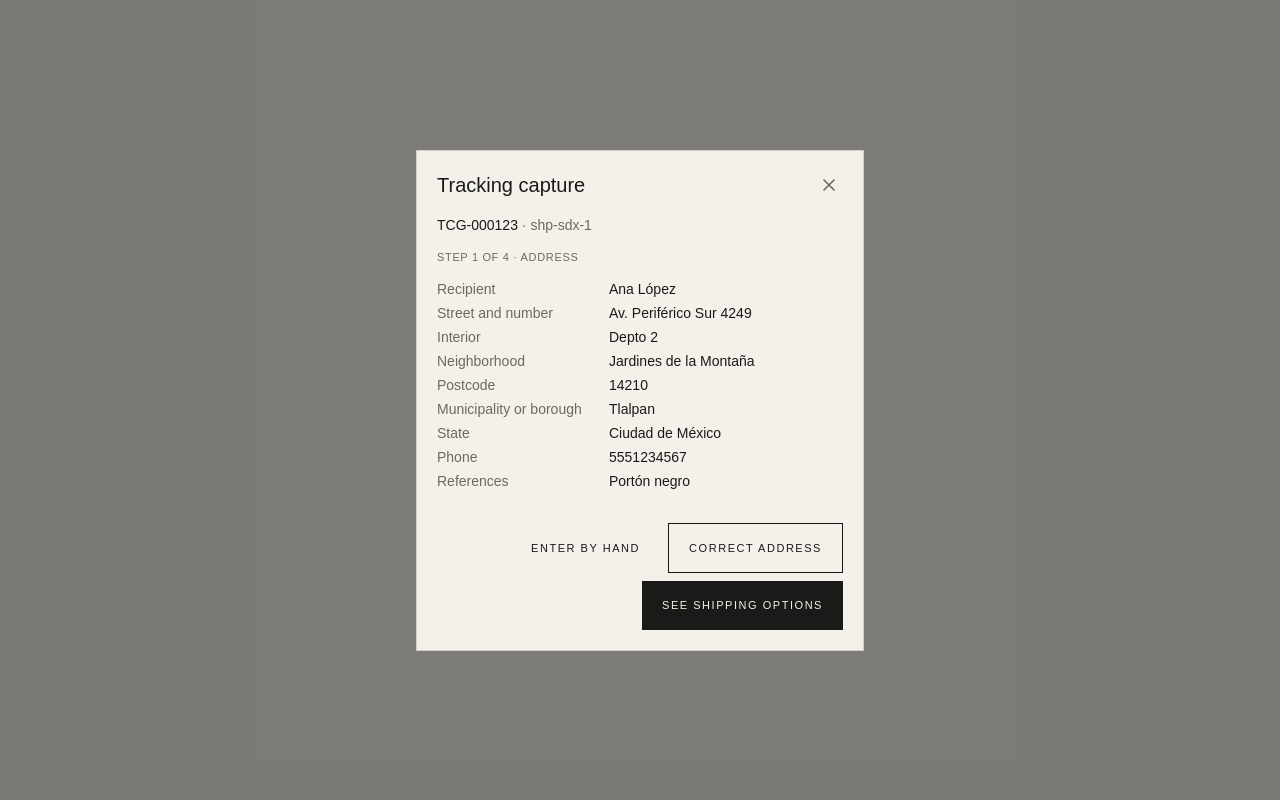
Test case: UX-SDX-27 · comprar también el personal: el dial habla de súper-admins, ⛔ nunca de «el dueño» › super_admin_only + operador ⇒ `buy.superAdminOnly` y el DOM sin /dueño|owner/ (en)
Click the button "See shipping options".
click(742, 605)  # box top-left (642, 581), bottom-right (843, 630)
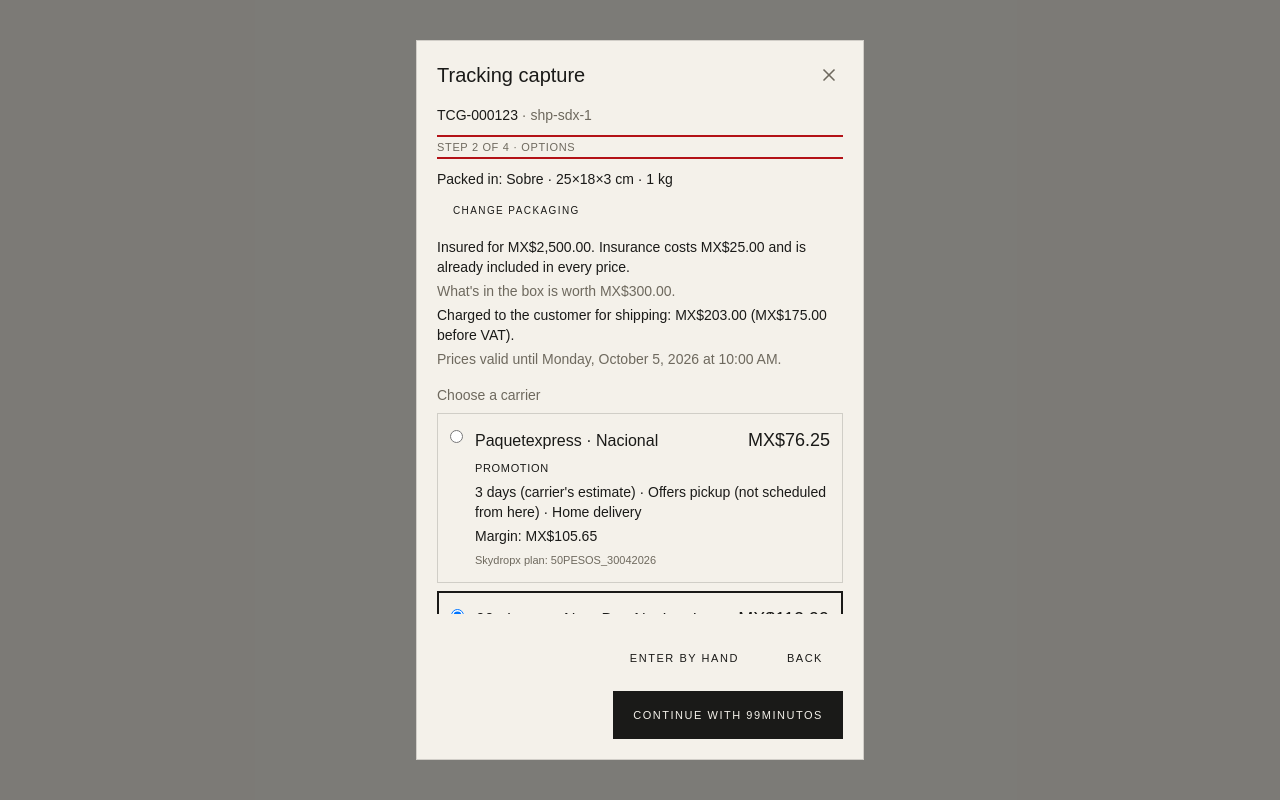
Click the button "Continue with 99minutos".
click(728, 715)  # box top-left (613, 690), bottom-right (843, 739)
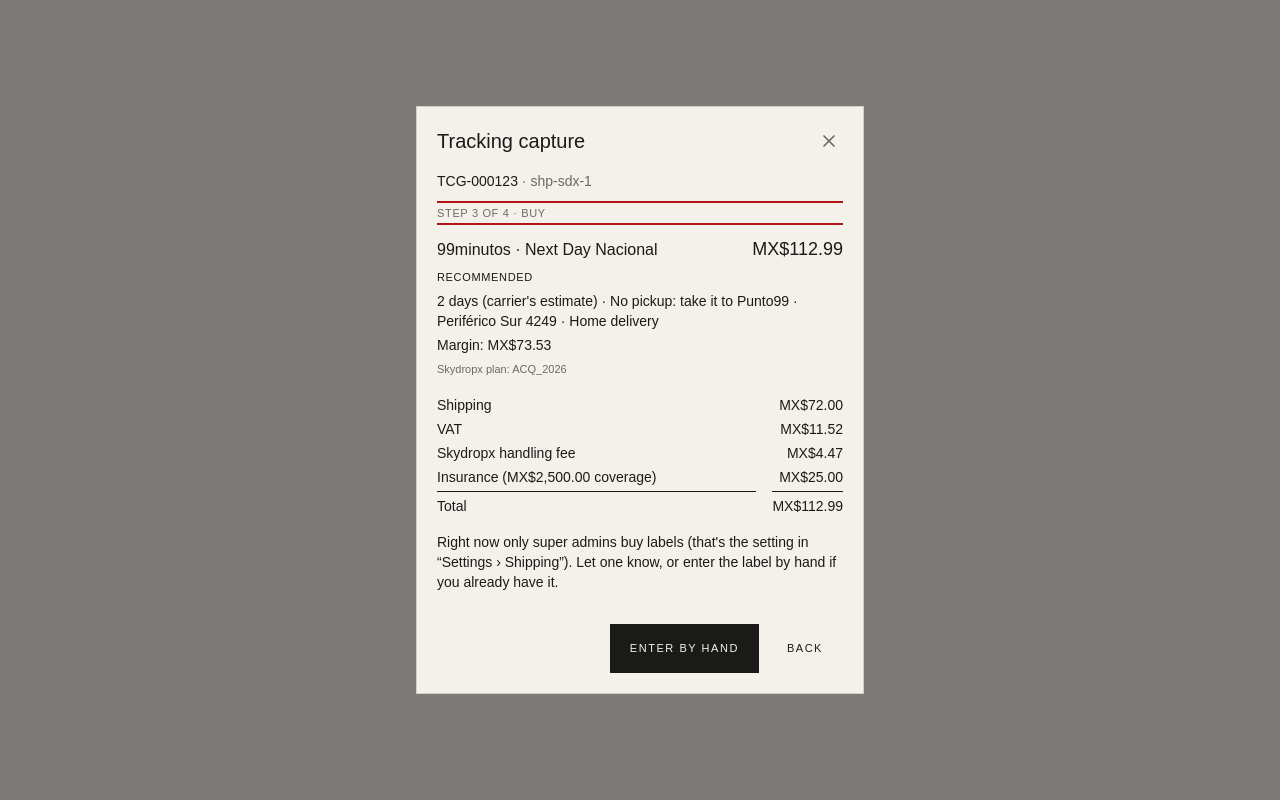
Check: the text "Step 3 of 4 · Buy" is shown, box top-left (437, 203), bottom-right (843, 223)
Check: the text with test id "sdx-cannot-buy" shows "Right now only super admins buy labels", box top-left (437, 534), bottom-right (836, 590)
